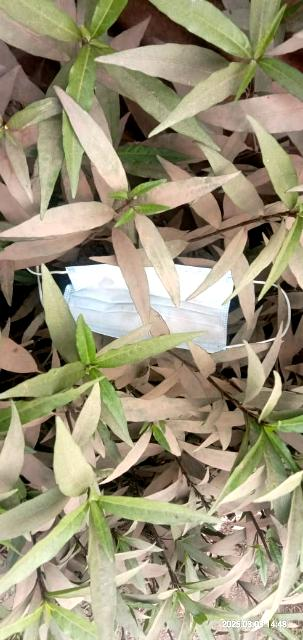mask: (20, 253, 303, 356)
